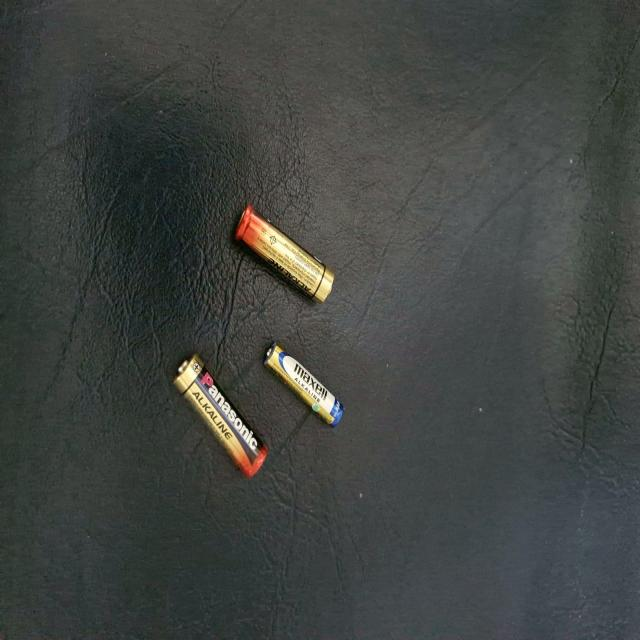battery: (172, 351, 272, 480), (229, 202, 332, 305), (258, 330, 350, 432)
